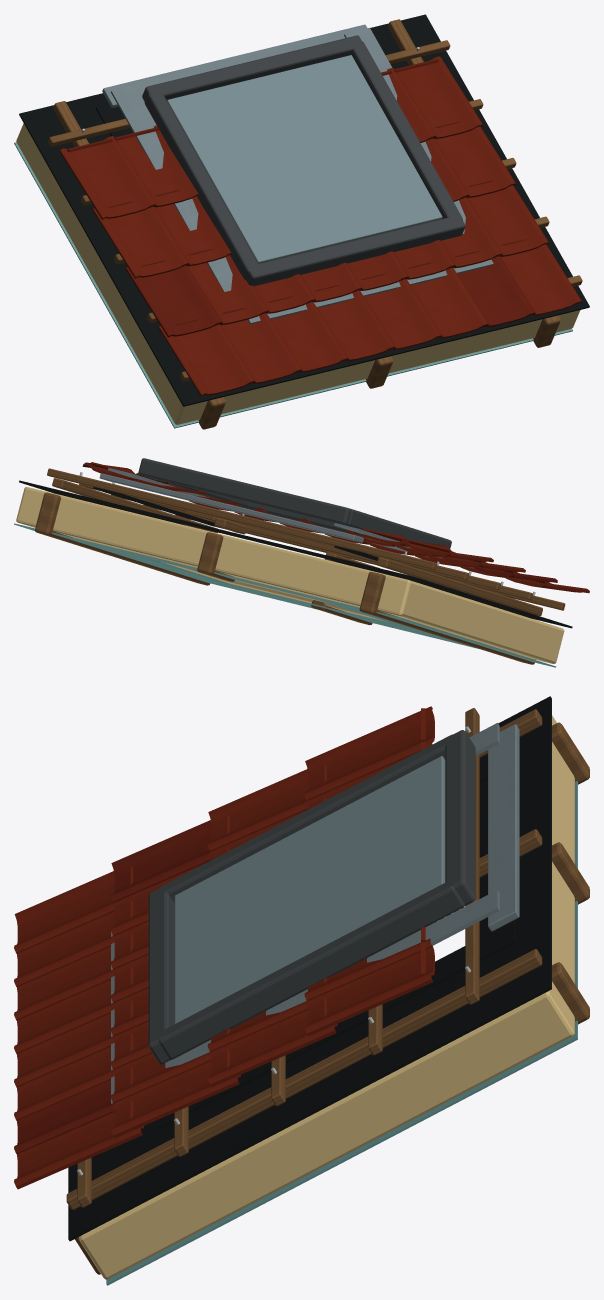
File: modell.glb
The picture shows the model from 3 angles, top to bottom: view 1: azimuth 30°, elevation 25°; view 2: azimuth 150°, elevation 25°; view 3: azimuth 270°, elevation 25°; orthographic projection. The views are drawn at different scales.
Parts seen in each view (by area): view 1: s09-deckziegel_deckung, s09-fenster_, s09-rahmen_, s09-zusatzebene_zusatzebene, s09-daemmung_daemmung, s09-deckziegel_deckung.001, s09-anschluss_deckung, s09-lattung_lattung, s09-zusatzebene_zusatzebene.001, s09-luftdichtheit_luftdichtheit, s09-sparren_tragwerk; view 2: s09-daemmung_daemmung, s09-lattung_lattung, s09-rahmen_, s09-deckziegel_deckung, s09-sparren_tragwerk, s09-luftdichtheit_luftdichtheit, s09-zusatzebene_zusatzebene, s09-zusatzebene_zusatzebene.001, s09-zusatzebene_zusatzebene.002, s09-anschluss_deckung, s09-deckziegel_deckung.001; view 3: s09-deckziegel_deckung, s09-fenster_, s09-daemmung_daemmung, s09-zusatzebene_zusatzebene, s09-rahmen_, s09-lattung_lattung, s09-deckziegel_deckung.001, s09-zusatzebene_zusatzebene.001, s09-anschluss_deckung, s09-zusatzebene_zusatzebene.002, s09-luftdichtheit_luftdichtheit, s09-sparren_tragwerk.
Part boxes in pixels (x1,y1,x2,y2): s09-deckziegel_deckung: (59, 56, 582, 396); s09-fenster_: (167, 55, 442, 263); s09-rahmen_: (142, 35, 465, 286); s09-zusatzebene_zusatzebene: (19, 14, 589, 406); s09-daemmung_daemmung: (16, 123, 580, 424); s09-deckziegel_deckung.001: (125, 256, 535, 337); s09-anschluss_deckung: (111, 27, 493, 324); s09-lattung_lattung: (48, 19, 582, 381); s09-zusatzebene_zusatzebene.001: (102, 24, 367, 107); s09-luftdichtheit_luftdichtheit: (14, 142, 572, 428); s09-sparren_tragwerk: (198, 315, 560, 429); s09-daemmung_daemmung: (16, 487, 564, 663); s09-lattung_lattung: (47, 468, 565, 615); s09-rahmen_: (138, 458, 451, 548); s09-deckziegel_deckung: (82, 462, 589, 593); s09-sparren_tragwerk: (35, 492, 535, 664); s09-luftdichtheit_luftdichtheit: (14, 523, 556, 667); s09-zusatzebene_zusatzebene: (19, 480, 572, 628); s09-zusatzebene_zusatzebene.001: (99, 473, 363, 542); s09-zusatzebene_zusatzebene.002: (93, 487, 378, 560); s09-anschluss_deckung: (108, 467, 473, 568); s09-deckziegel_deckung.001: (234, 512, 557, 582); s09-deckziegel_deckung: (14, 706, 434, 1189); s09-fenster_: (174, 756, 445, 1023); s09-daemmung_daemmung: (79, 715, 574, 1279); s09-zusatzebene_zusatzebene: (68, 696, 551, 1241); s09-rahmen_: (148, 730, 475, 1064); s09-lattung_lattung: (66, 708, 542, 1210); s09-deckziegel_deckung.001: (14, 820, 211, 1154); s09-zusatzebene_zusatzebene.001: (488, 724, 519, 931); s09-anschluss_deckung: (111, 723, 499, 1103); s09-zusatzebene_zusatzebene.002: (157, 756, 515, 1129); s09-luftdichtheit_luftdichtheit: (106, 781, 577, 1285); s09-sparren_tragwerk: (75, 722, 589, 1274).
Size of the model in its own units: 2.09 by 1.16 by 1.75.
10 materials, 4 textured.
